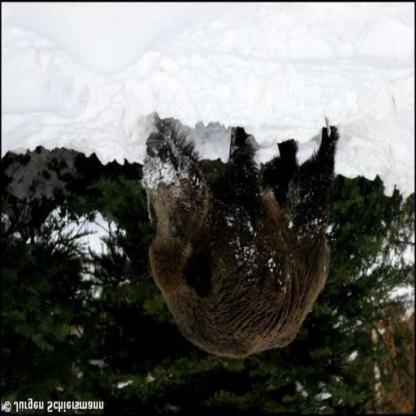boar: (125, 98, 342, 374)
